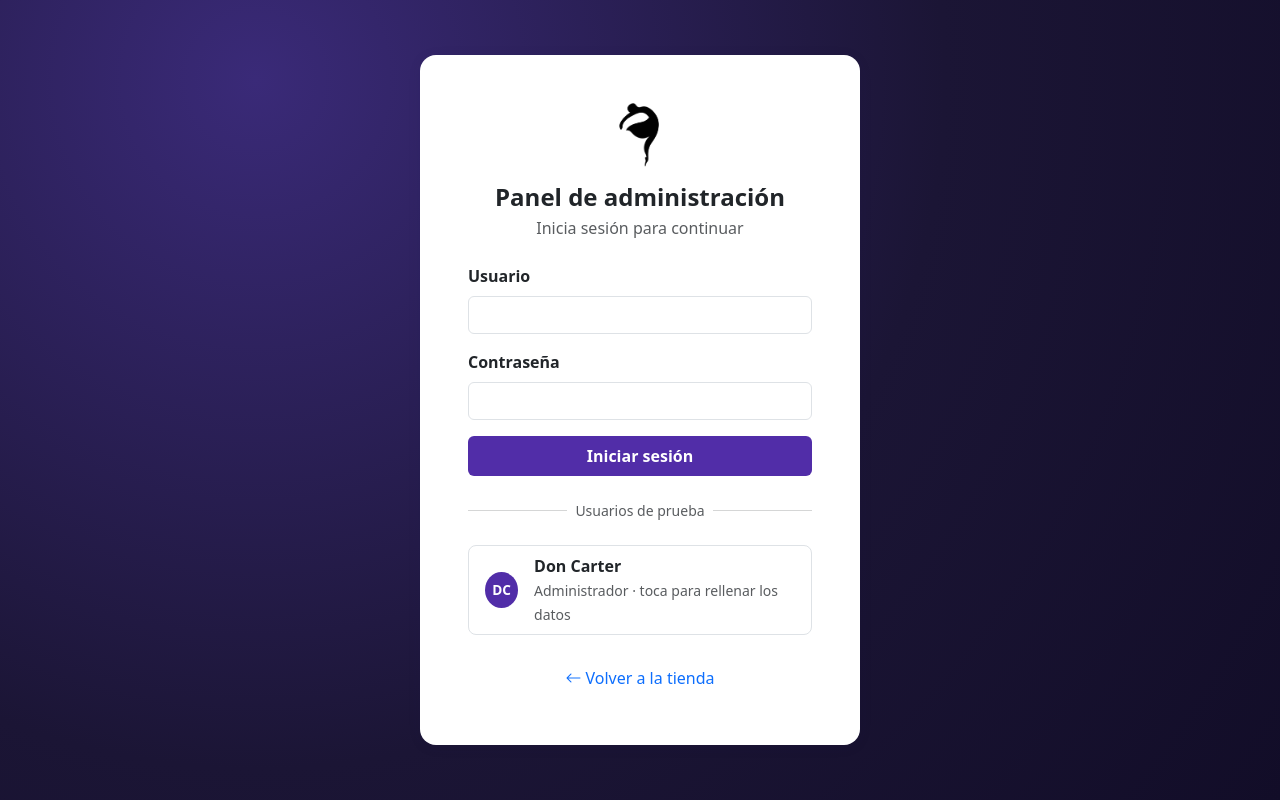
Test case: pages/AdminPage (inicio de sesión del panel) › con credenciales incorrectas muestra un error y no entra
The width and height of the screenshot is (1280, 800).
Type "Don Carter" into the field labelled "Usuario".
click(640, 315); type("Don Carter")  # box top-left (468, 296), bottom-right (812, 334)
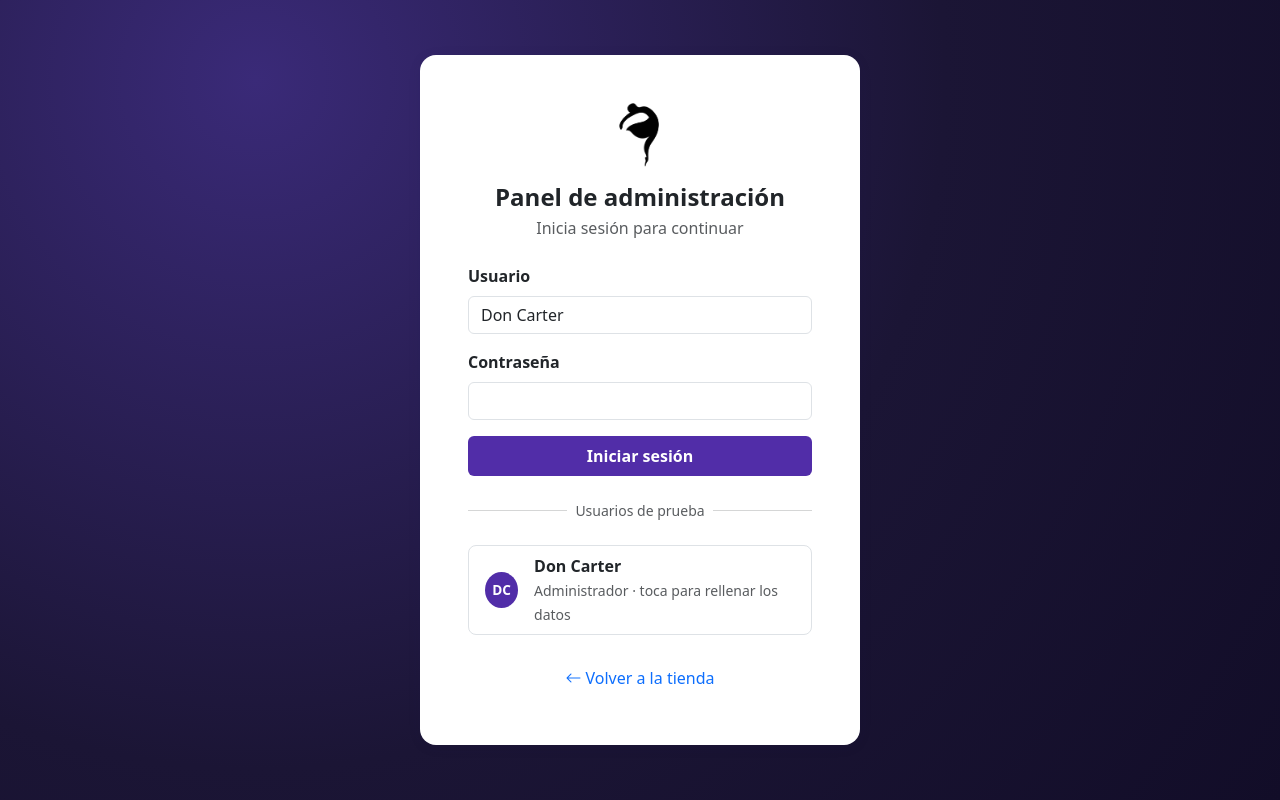
Type "incorrecta" into the password field labelled "Contraseña".
click(640, 401); type("incorrecta")  # box top-left (468, 382), bottom-right (812, 420)
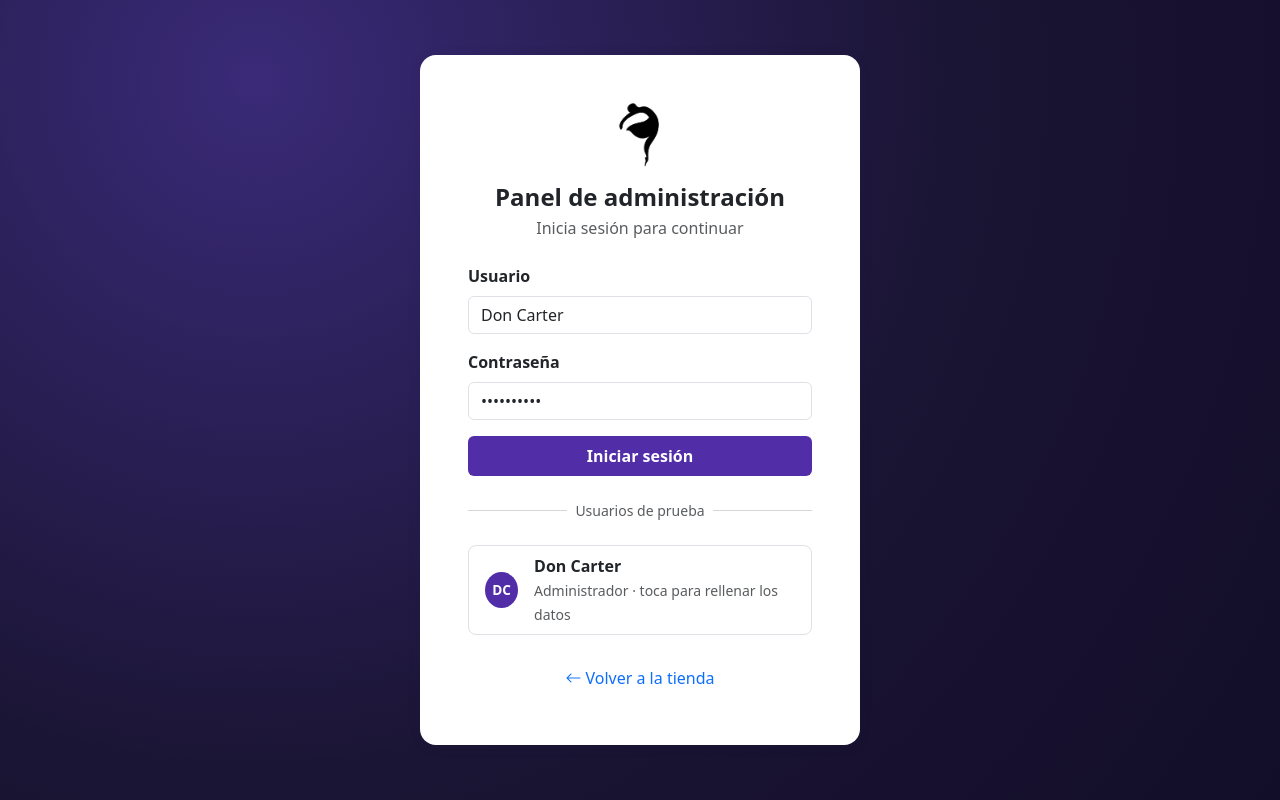
Click the button "Iniciar sesión".
click(640, 456)  # box top-left (468, 436), bottom-right (812, 476)
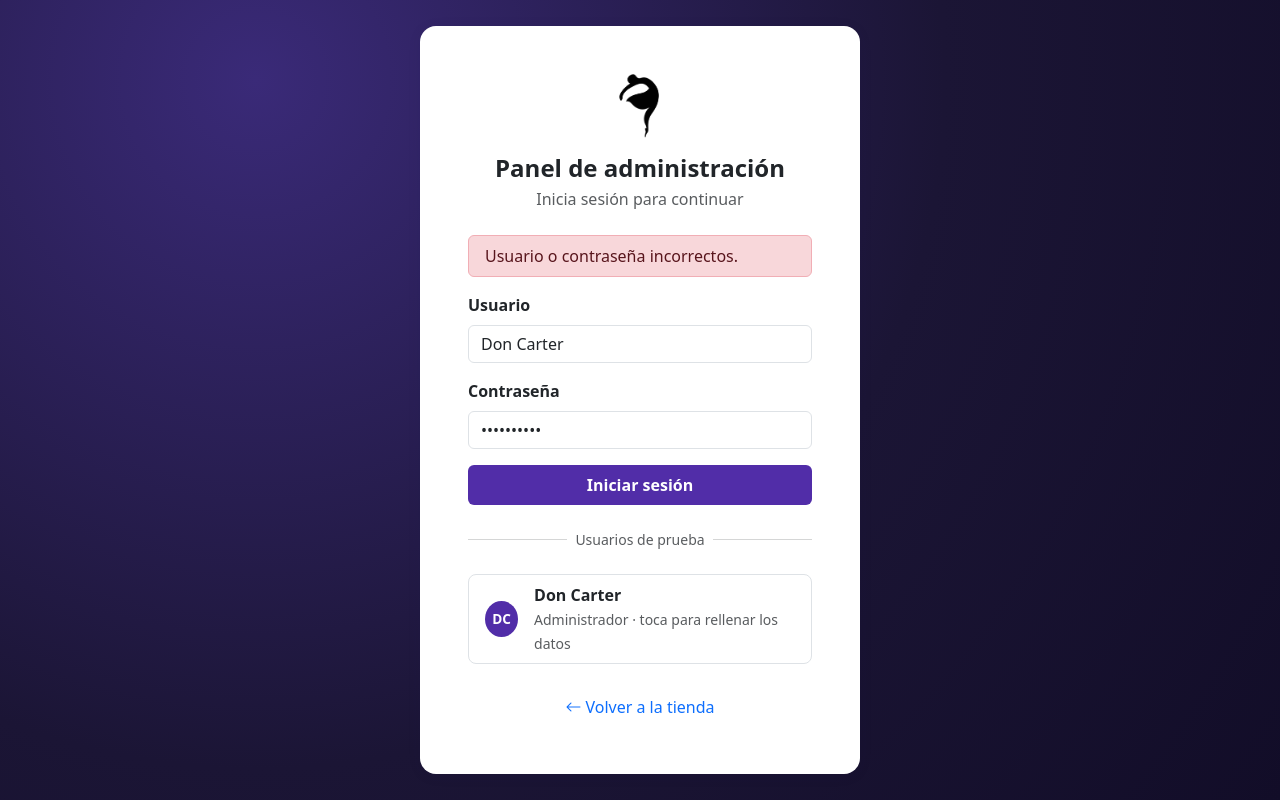
Now the text "Usuario o contraseña incorrectos." is shown, box top-left (468, 235), bottom-right (812, 277)
